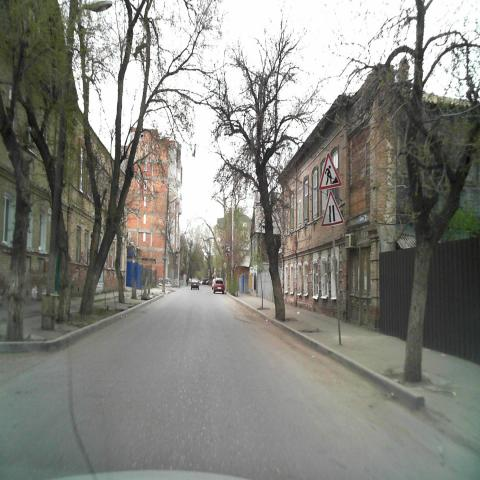1_20_3: (318, 191, 344, 226)
1_25: (316, 152, 342, 190)
